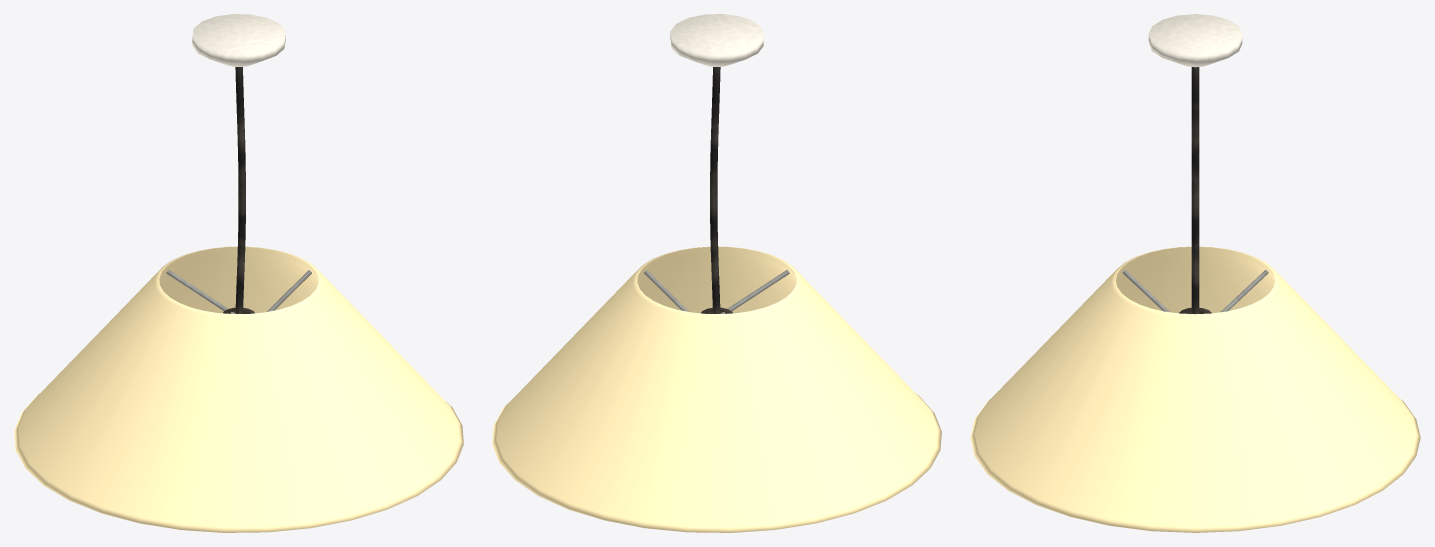
The model's file is dom_lampa_klosz.glb.
The picture shows the model from 3 angles, left to right: view 1: azimuth 30°, elevation 25°; view 2: azimuth 150°, elevation 25°; view 3: azimuth 270°, elevation 25°; orthographic projection.
Parts seen in each view (by area): view 1: Lampa; view 2: Lampa; view 3: Lampa.
Boxes of the visible parts, bbox=[...] form: Lampa: bbox=[14, 14, 463, 532]; Lampa: bbox=[492, 14, 941, 532]; Lampa: bbox=[970, 14, 1420, 532].
Bounding box in the file's own units: 0.48 × 0.476 × 0.48.
Materials: 2 (1 with a texture image).
